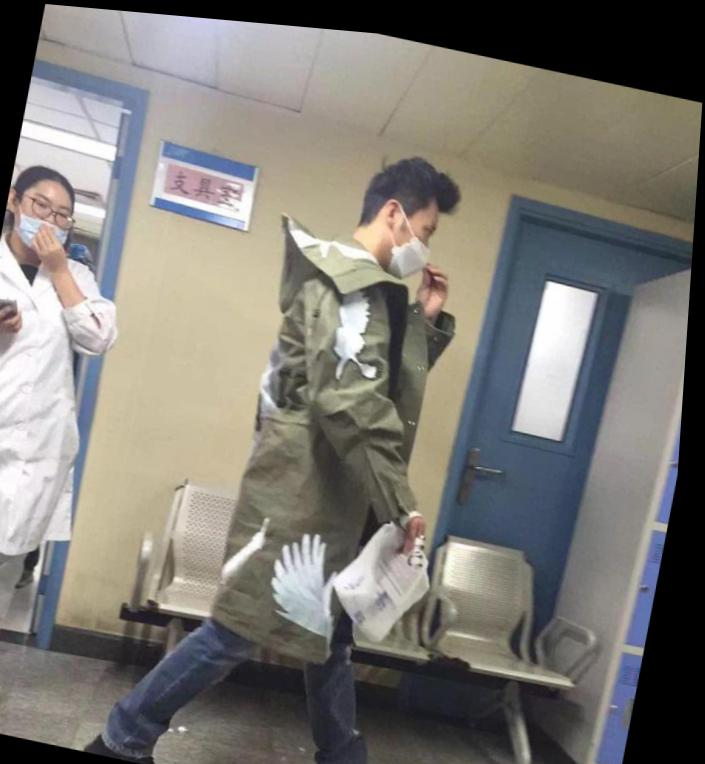OK: (368, 191, 444, 273)
WRONG: (14, 188, 80, 258)
